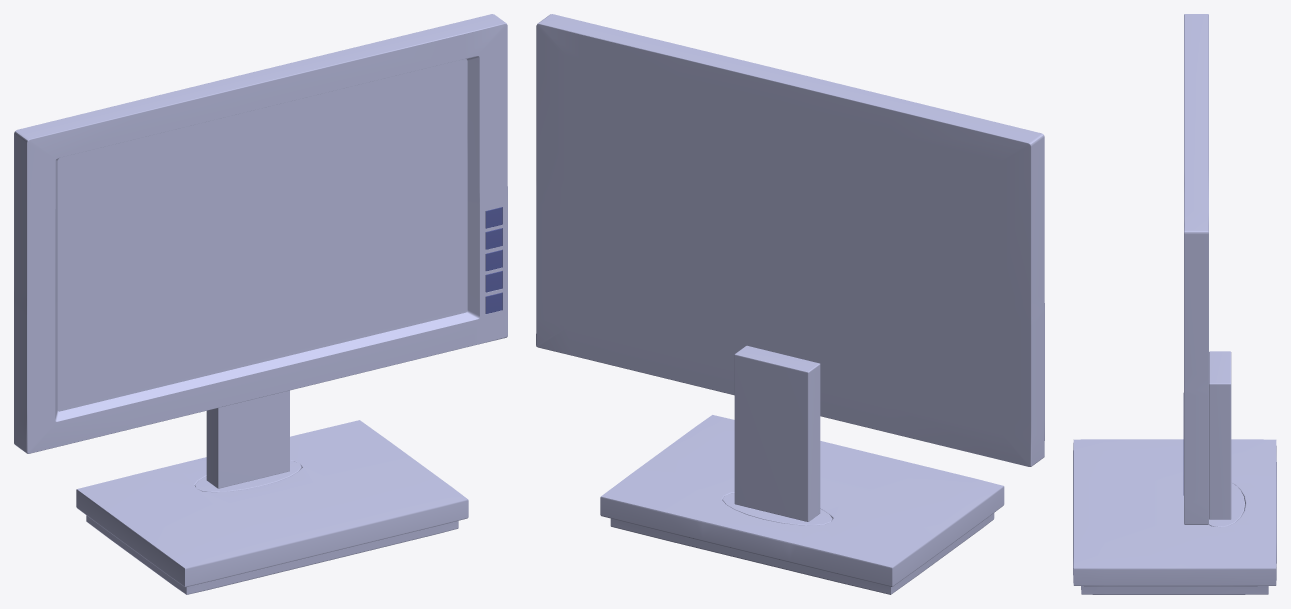
Rendered from monitor_mesh.fbx.
3 renders of one model, left to right at view 1: azimuth 30°, elevation 25°; view 2: azimuth 150°, elevation 25°; view 3: azimuth 270°, elevation 25°, orthographic. The views are drawn at different scales.
Visible parts, largest first — view 1: monitor_mesh, base_mesh, middle_mesh, circle_mesh; view 2: monitor_mesh, base_mesh, middle_mesh, circle_mesh; view 3: base_mesh, monitor_mesh, middle_mesh, circle_mesh.
Part boxes in pixels (x1,y1,x2,y2): monitor_mesh: (14, 14, 507, 453); base_mesh: (76, 420, 468, 594); middle_mesh: (206, 390, 289, 488); circle_mesh: (194, 461, 301, 492); monitor_mesh: (536, 14, 1044, 466); base_mesh: (600, 415, 1004, 594); middle_mesh: (734, 345, 820, 521); circle_mesh: (722, 493, 832, 525); base_mesh: (1073, 439, 1276, 594); monitor_mesh: (1184, 14, 1208, 524); middle_mesh: (1209, 351, 1231, 519); circle_mesh: (1208, 483, 1245, 526).
Size of the model in its own units: 9.15 by 8.07 by 3.6.
